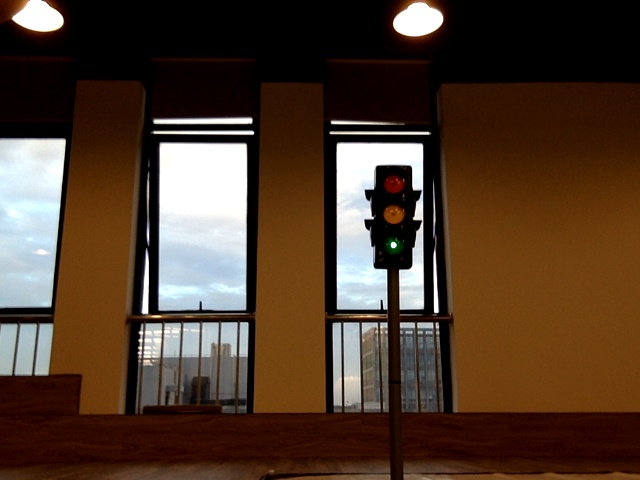green: (373, 172, 408, 264)
